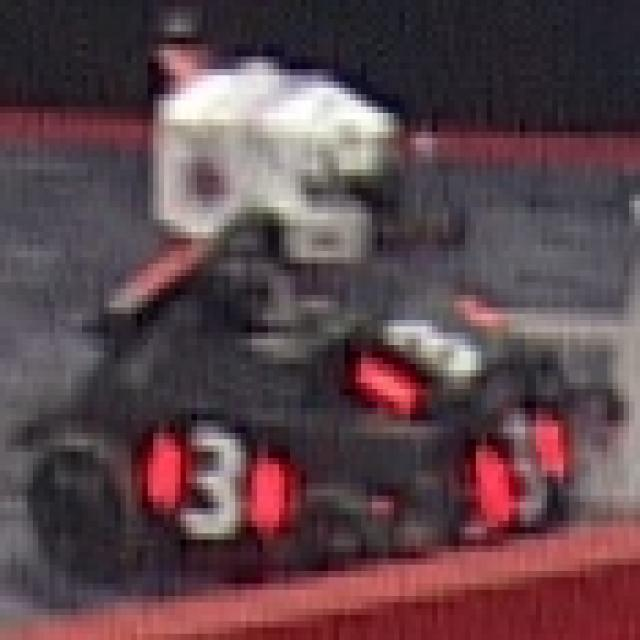R3: (137, 420, 290, 546), (470, 408, 569, 533)
